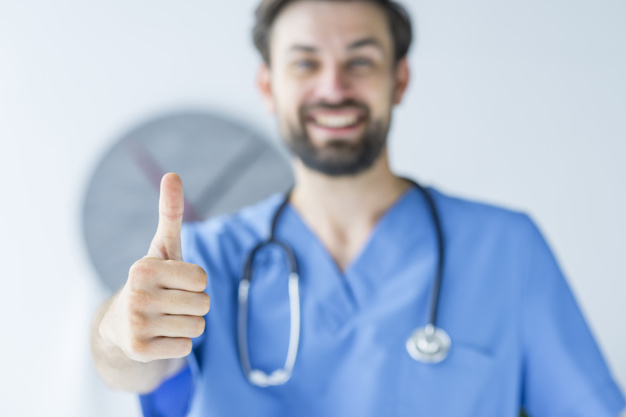thumbsup: (119, 172, 211, 362)
